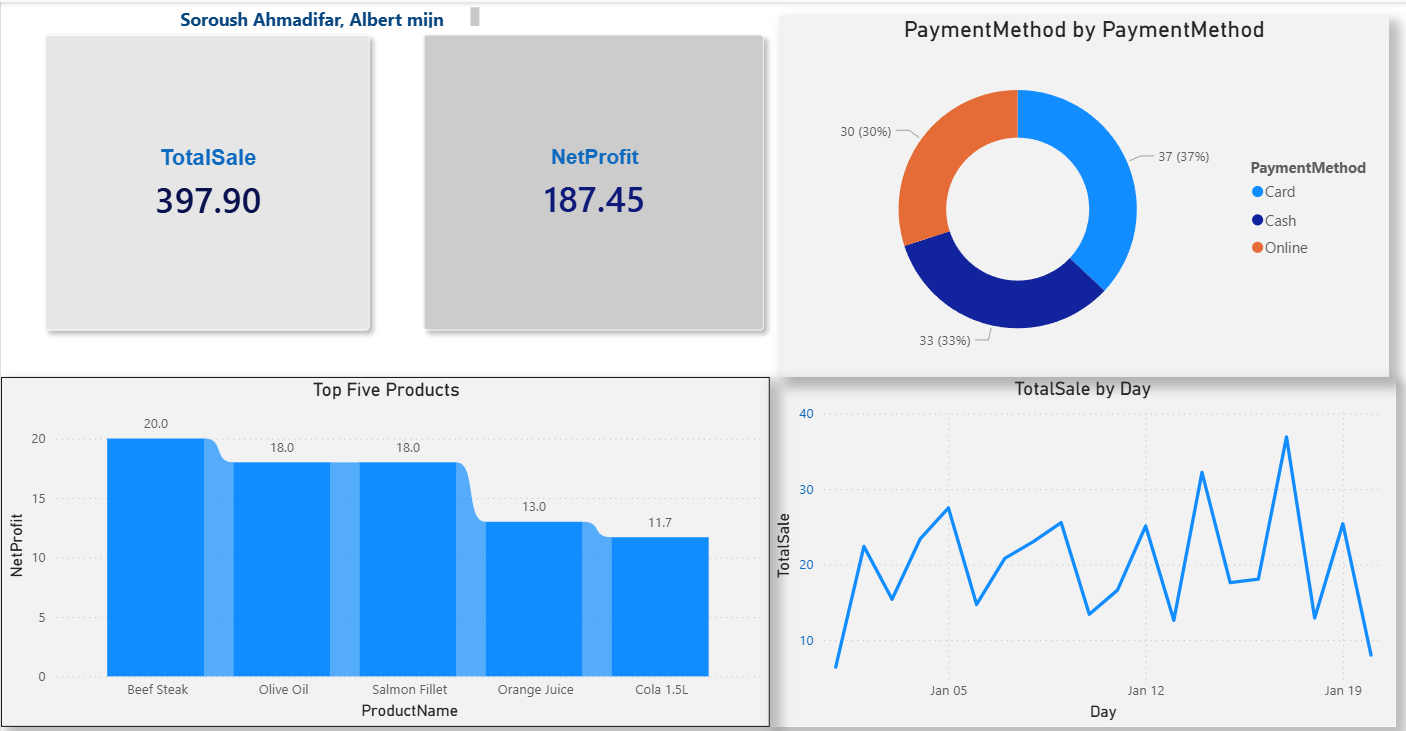

Layout of this report page (visuals, bound fields, positions):
{"tool":"powerbi","page":{"name":"Page 1","canvas":[1280,720],"ordinal":0},"visuals":[{"type":"cardVisual","fields":{"Data":["Sum(OrderDetails.TotalSale)"]},"box":[9.6,0,352.7,326.6],"z":0},{"type":"cardVisual","fields":{"Data":["Sum(OrderDetails.NetProfit)"]},"box":[352.7,0,366.4,326.6],"z":1000},{"type":"columnChart","title":"Top Five Products ","fields":{"Category":["Products.ProductName"],"Y":["Sum(OrderDetails.NetProfit)"]},"box":[0,338.9,694.3,315.6],"z":2000},{"type":"lineChart","title":"TotalSale by Day","fields":{"Category":["Orders.TimelineDate"],"Y":["Sum(OrderDetails.TotalSale)"]},"box":[694.3,338.9,565.4,315.6],"z":3000},{"type":"donutChart","fields":{"Category":["Orders.PaymentMethod"],"Y":["CountNonNull(Orders.PaymentMethod)"]},"box":[703.9,12.3,550.3,326.6],"z":3001},{"type":"textbox","box":[157,0,280,28.2],"z":3002}]}

Visuals, with their boxes on the page's 1280x720 design canvas (x1, y1, x2, y2). These are canvas units, not pixel positions in the 1406x731 screenshot, which may show the page scaled, cropped or inside an application window:
cardVisual - Sum(OrderDetails.TotalSale): x1=10 y1=0 x2=362 y2=327
cardVisual - Sum(OrderDetails.NetProfit): x1=353 y1=0 x2=719 y2=327
"Top Five Products " columnChart: x1=0 y1=339 x2=694 y2=654
"TotalSale by Day" lineChart: x1=694 y1=339 x2=1260 y2=654
donutChart - Orders.PaymentMethod x CountNonNull(Orders.PaymentMethod): x1=704 y1=12 x2=1254 y2=339
textbox: x1=157 y1=0 x2=437 y2=28
